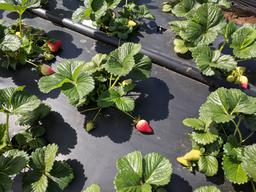green strawberry: (183, 149, 202, 161), (38, 63, 55, 75), (238, 76, 249, 89), (86, 121, 94, 133)
red strawberry: (135, 119, 154, 134), (47, 39, 63, 52)
